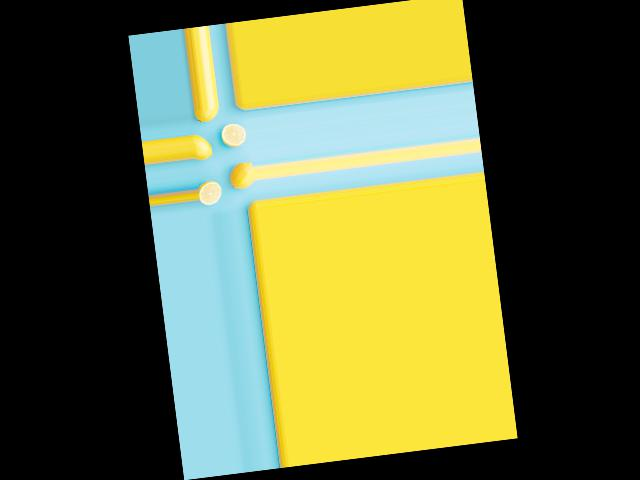lemon: (196, 105, 222, 124)
